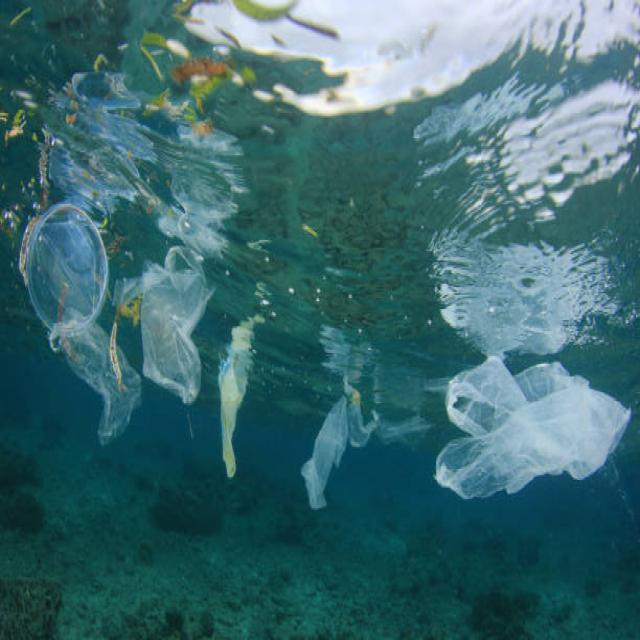garbage: (428, 345, 636, 508), (13, 173, 133, 451), (140, 246, 208, 429), (306, 361, 364, 518), (216, 306, 262, 490)
